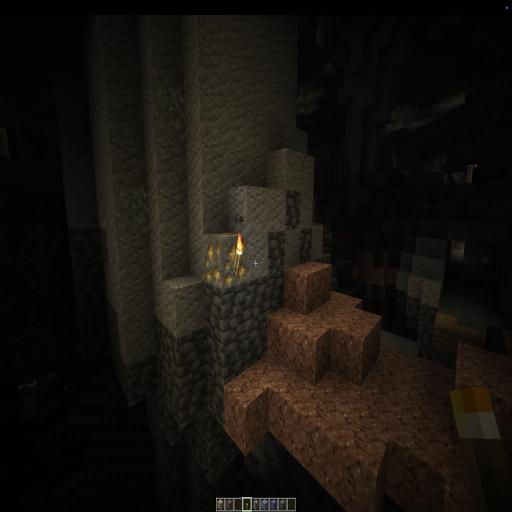gold ore: (204, 232, 250, 291), (93, 192, 111, 236)
